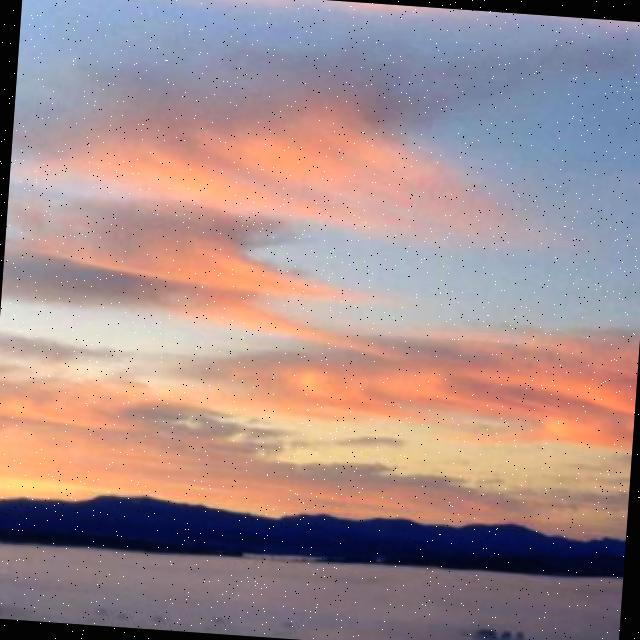Ci: (1, 67, 640, 521)
